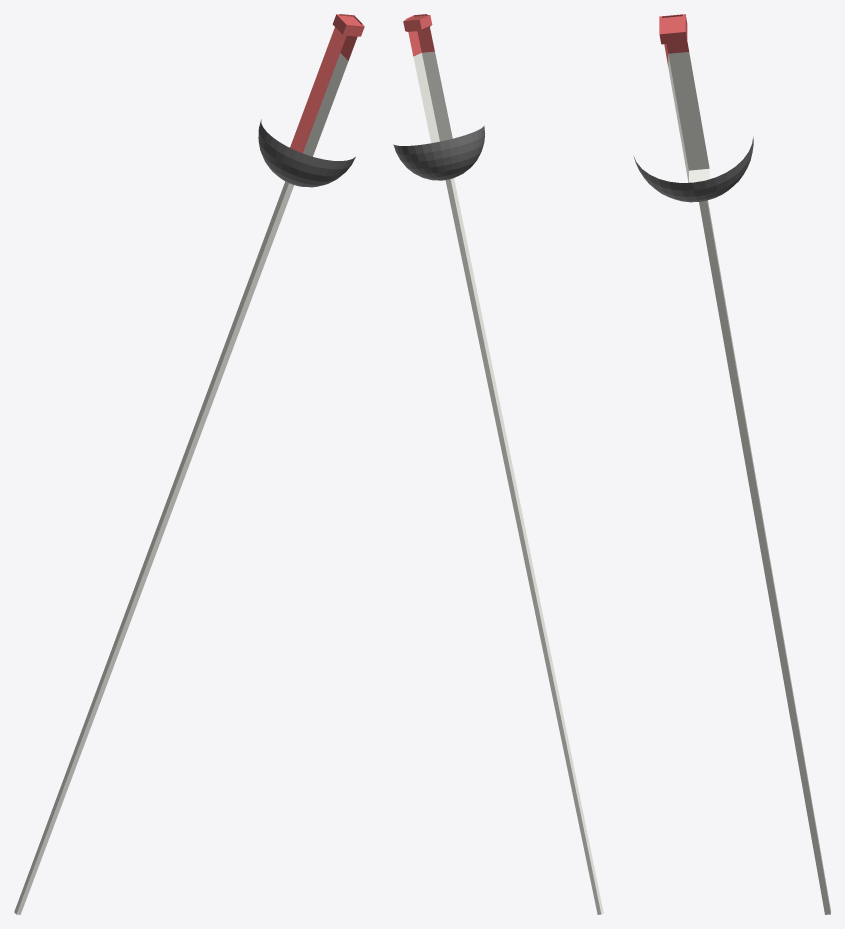
The model's file is Rapier-j036gbxm.glb.
3 renders of one model, left to right at view 1: azimuth 30°, elevation 25°; view 2: azimuth 150°, elevation 25°; view 3: azimuth 270°, elevation 25°, orthographic. The views are drawn at different scales.
Parts seen in each view (by area): view 1: Rapier.001; view 2: Rapier.001; view 3: Rapier.001.
Part boxes in pixels (<box>): Rapier.001: <box>14,14,364,914</box>; Rapier.001: <box>393,14,603,914</box>; Rapier.001: <box>633,14,830,914</box>.
Bounding box in the file's own units: 0.3533 × 1.06 × 0.1823.
